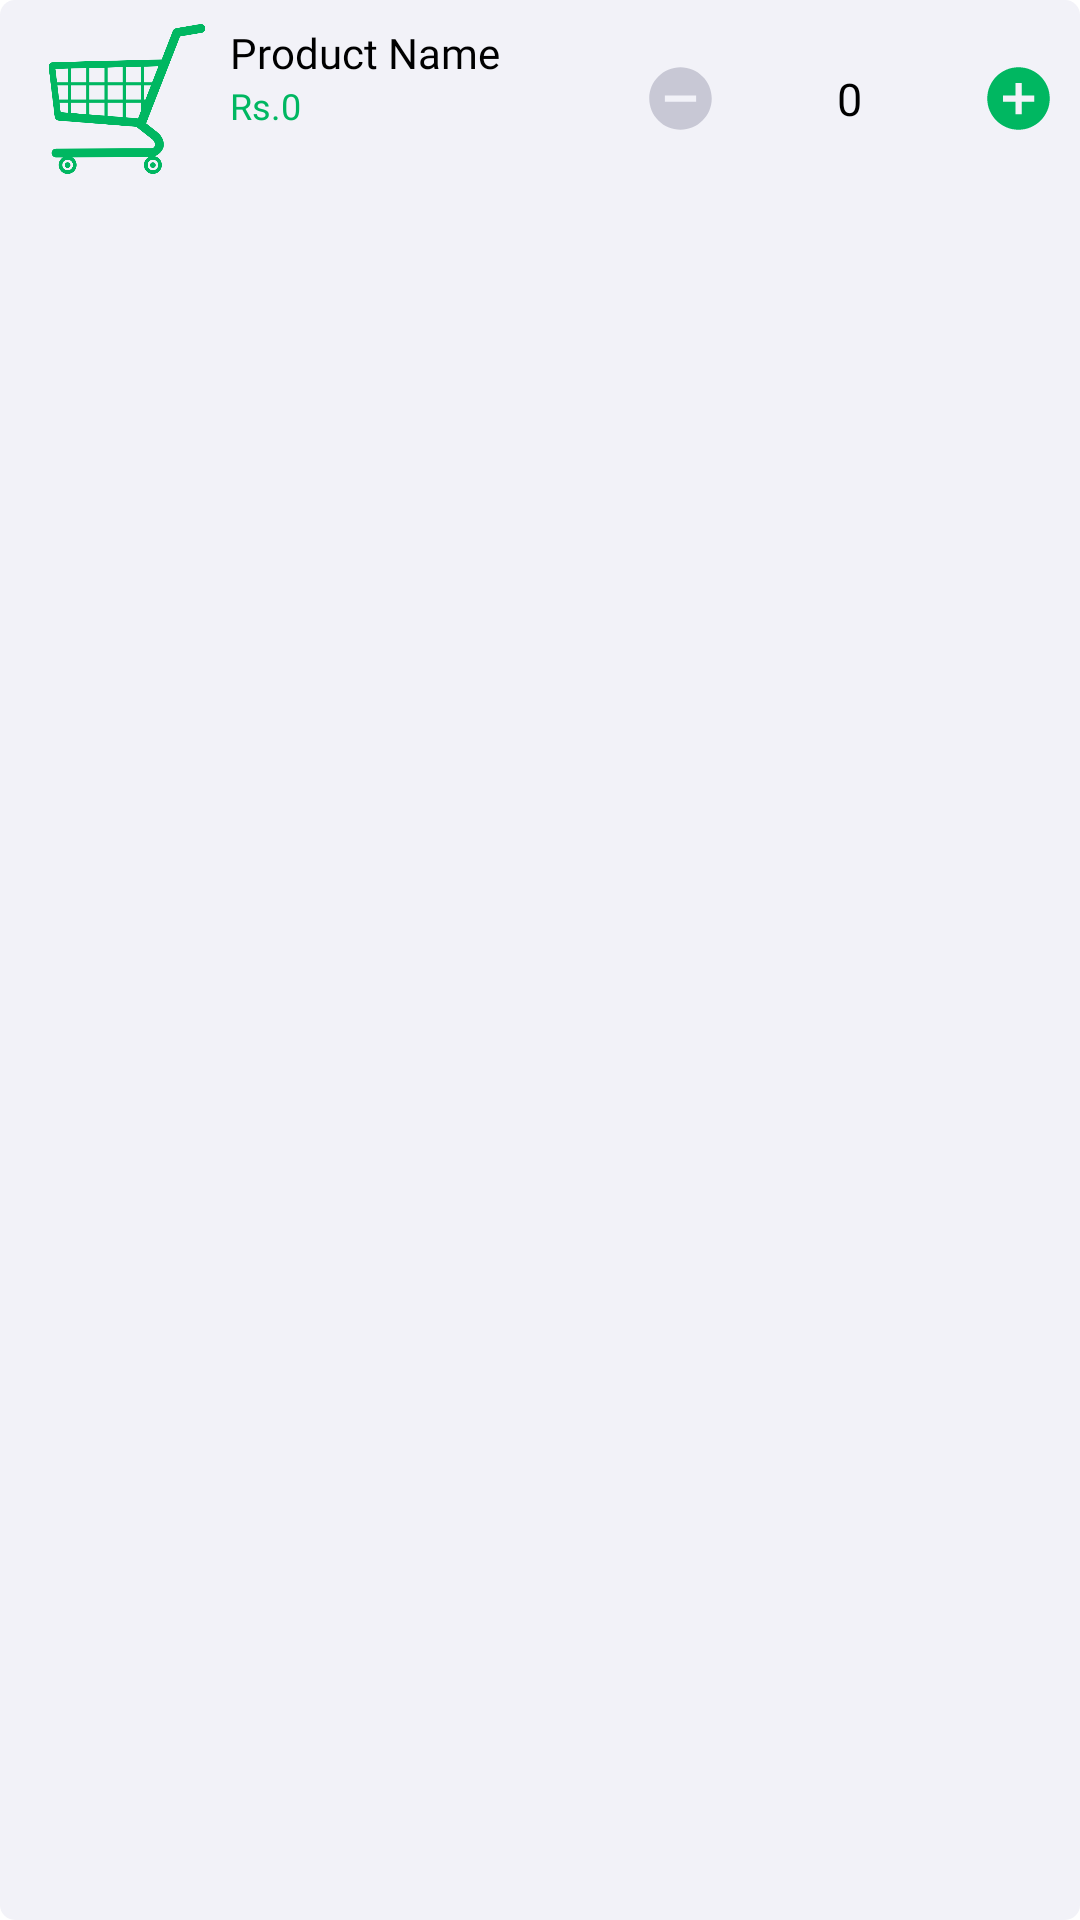

Screen size 1080px×1920px. Icon name, then its box in pixels as (x1, y1, x2, y2):
add circle: (987, 67, 1050, 130)
cart: (49, 24, 205, 174)
remove circle: (649, 67, 712, 130)
